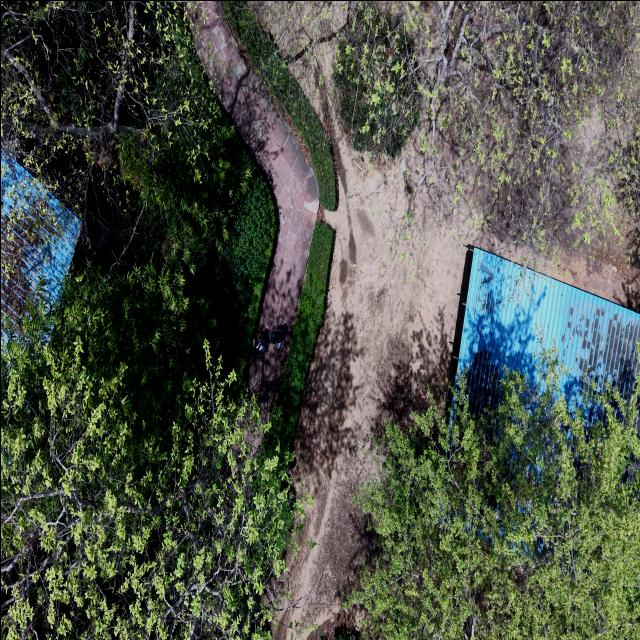DRY_AREA: (275, 37, 639, 639), (276, 108, 522, 639), (277, 167, 512, 639), (277, 122, 461, 639), (277, 140, 462, 639), (187, 1, 318, 410), (245, 1, 348, 60)
ROOFTOP_BUILDING: (452, 247, 639, 413), (453, 247, 639, 413), (1, 152, 79, 321)
VEGETATION_TREE: (1, 1, 331, 639), (1, 3, 296, 639), (1, 197, 295, 639), (224, 1, 639, 254), (223, 1, 639, 252), (225, 1, 639, 250), (1, 6, 274, 381), (1, 306, 292, 639), (348, 356, 639, 639), (334, 1, 639, 251), (1, 1, 245, 247), (58, 175, 274, 428), (444, 1, 637, 249), (1, 1, 217, 219), (1, 1, 197, 163), (222, 1, 336, 210), (200, 153, 275, 372), (265, 222, 332, 457), (333, 1, 418, 155), (608, 85, 639, 270), (608, 87, 639, 265), (619, 117, 639, 264), (617, 112, 639, 235), (320, 625, 359, 639)
